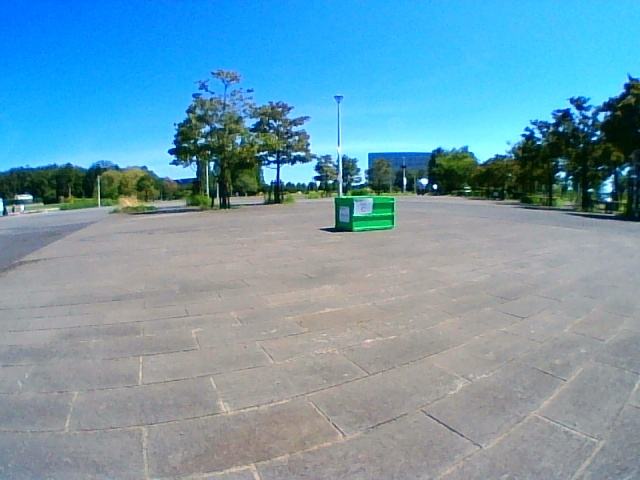green_box: (335, 196, 393, 230)
tag: (354, 199, 372, 214)
